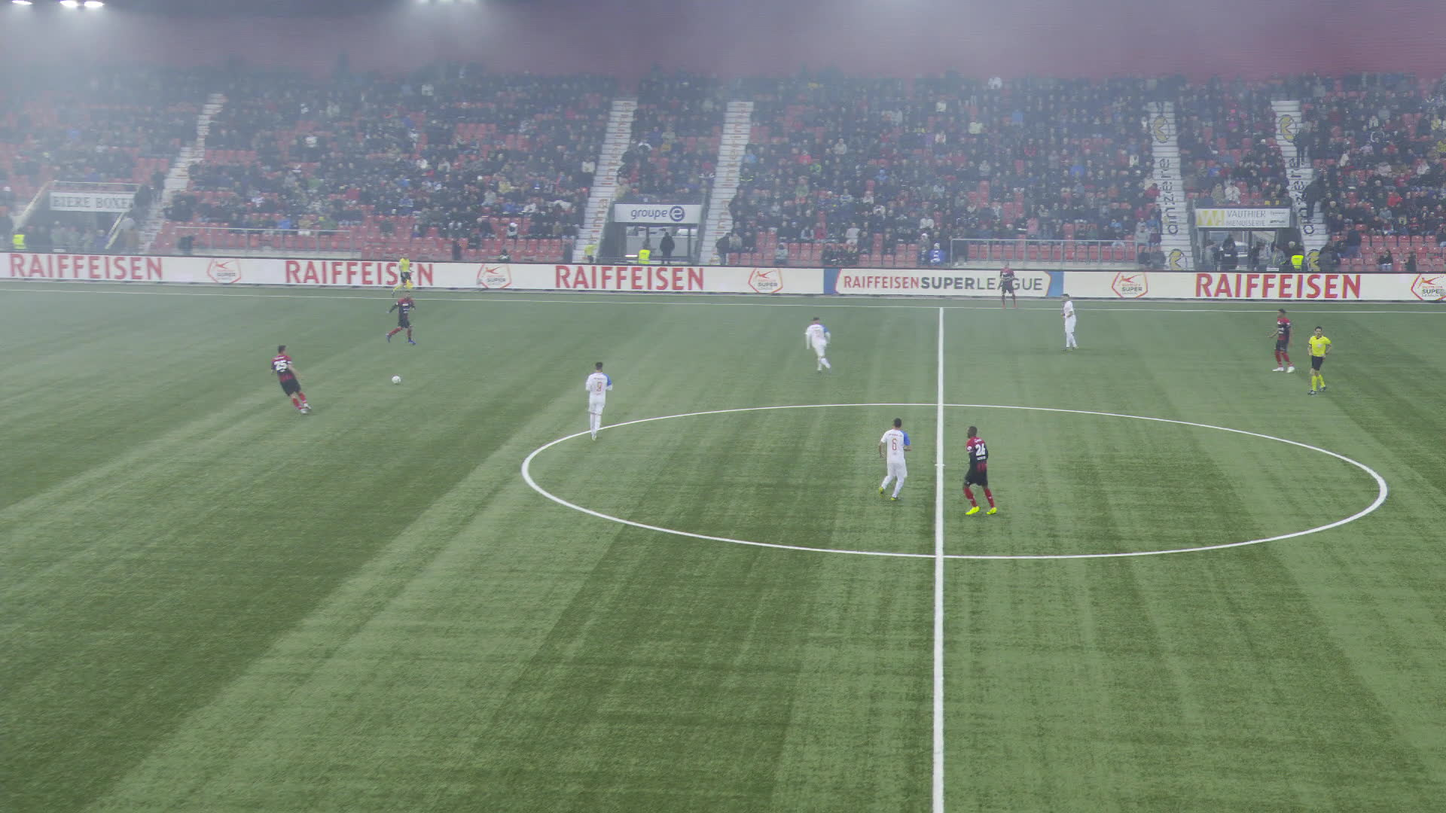ball: (392, 375, 401, 383)
player: (960, 427, 999, 515), (874, 416, 909, 500), (269, 342, 310, 413), (587, 362, 613, 440), (388, 292, 419, 344), (1271, 309, 1295, 373), (807, 318, 833, 375), (1059, 295, 1078, 352), (999, 263, 1018, 307)
referee: (1302, 325, 1331, 394), (395, 251, 413, 295)
